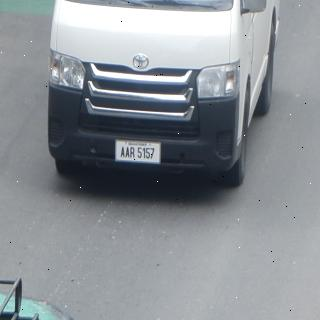license: (117, 141, 162, 165)
